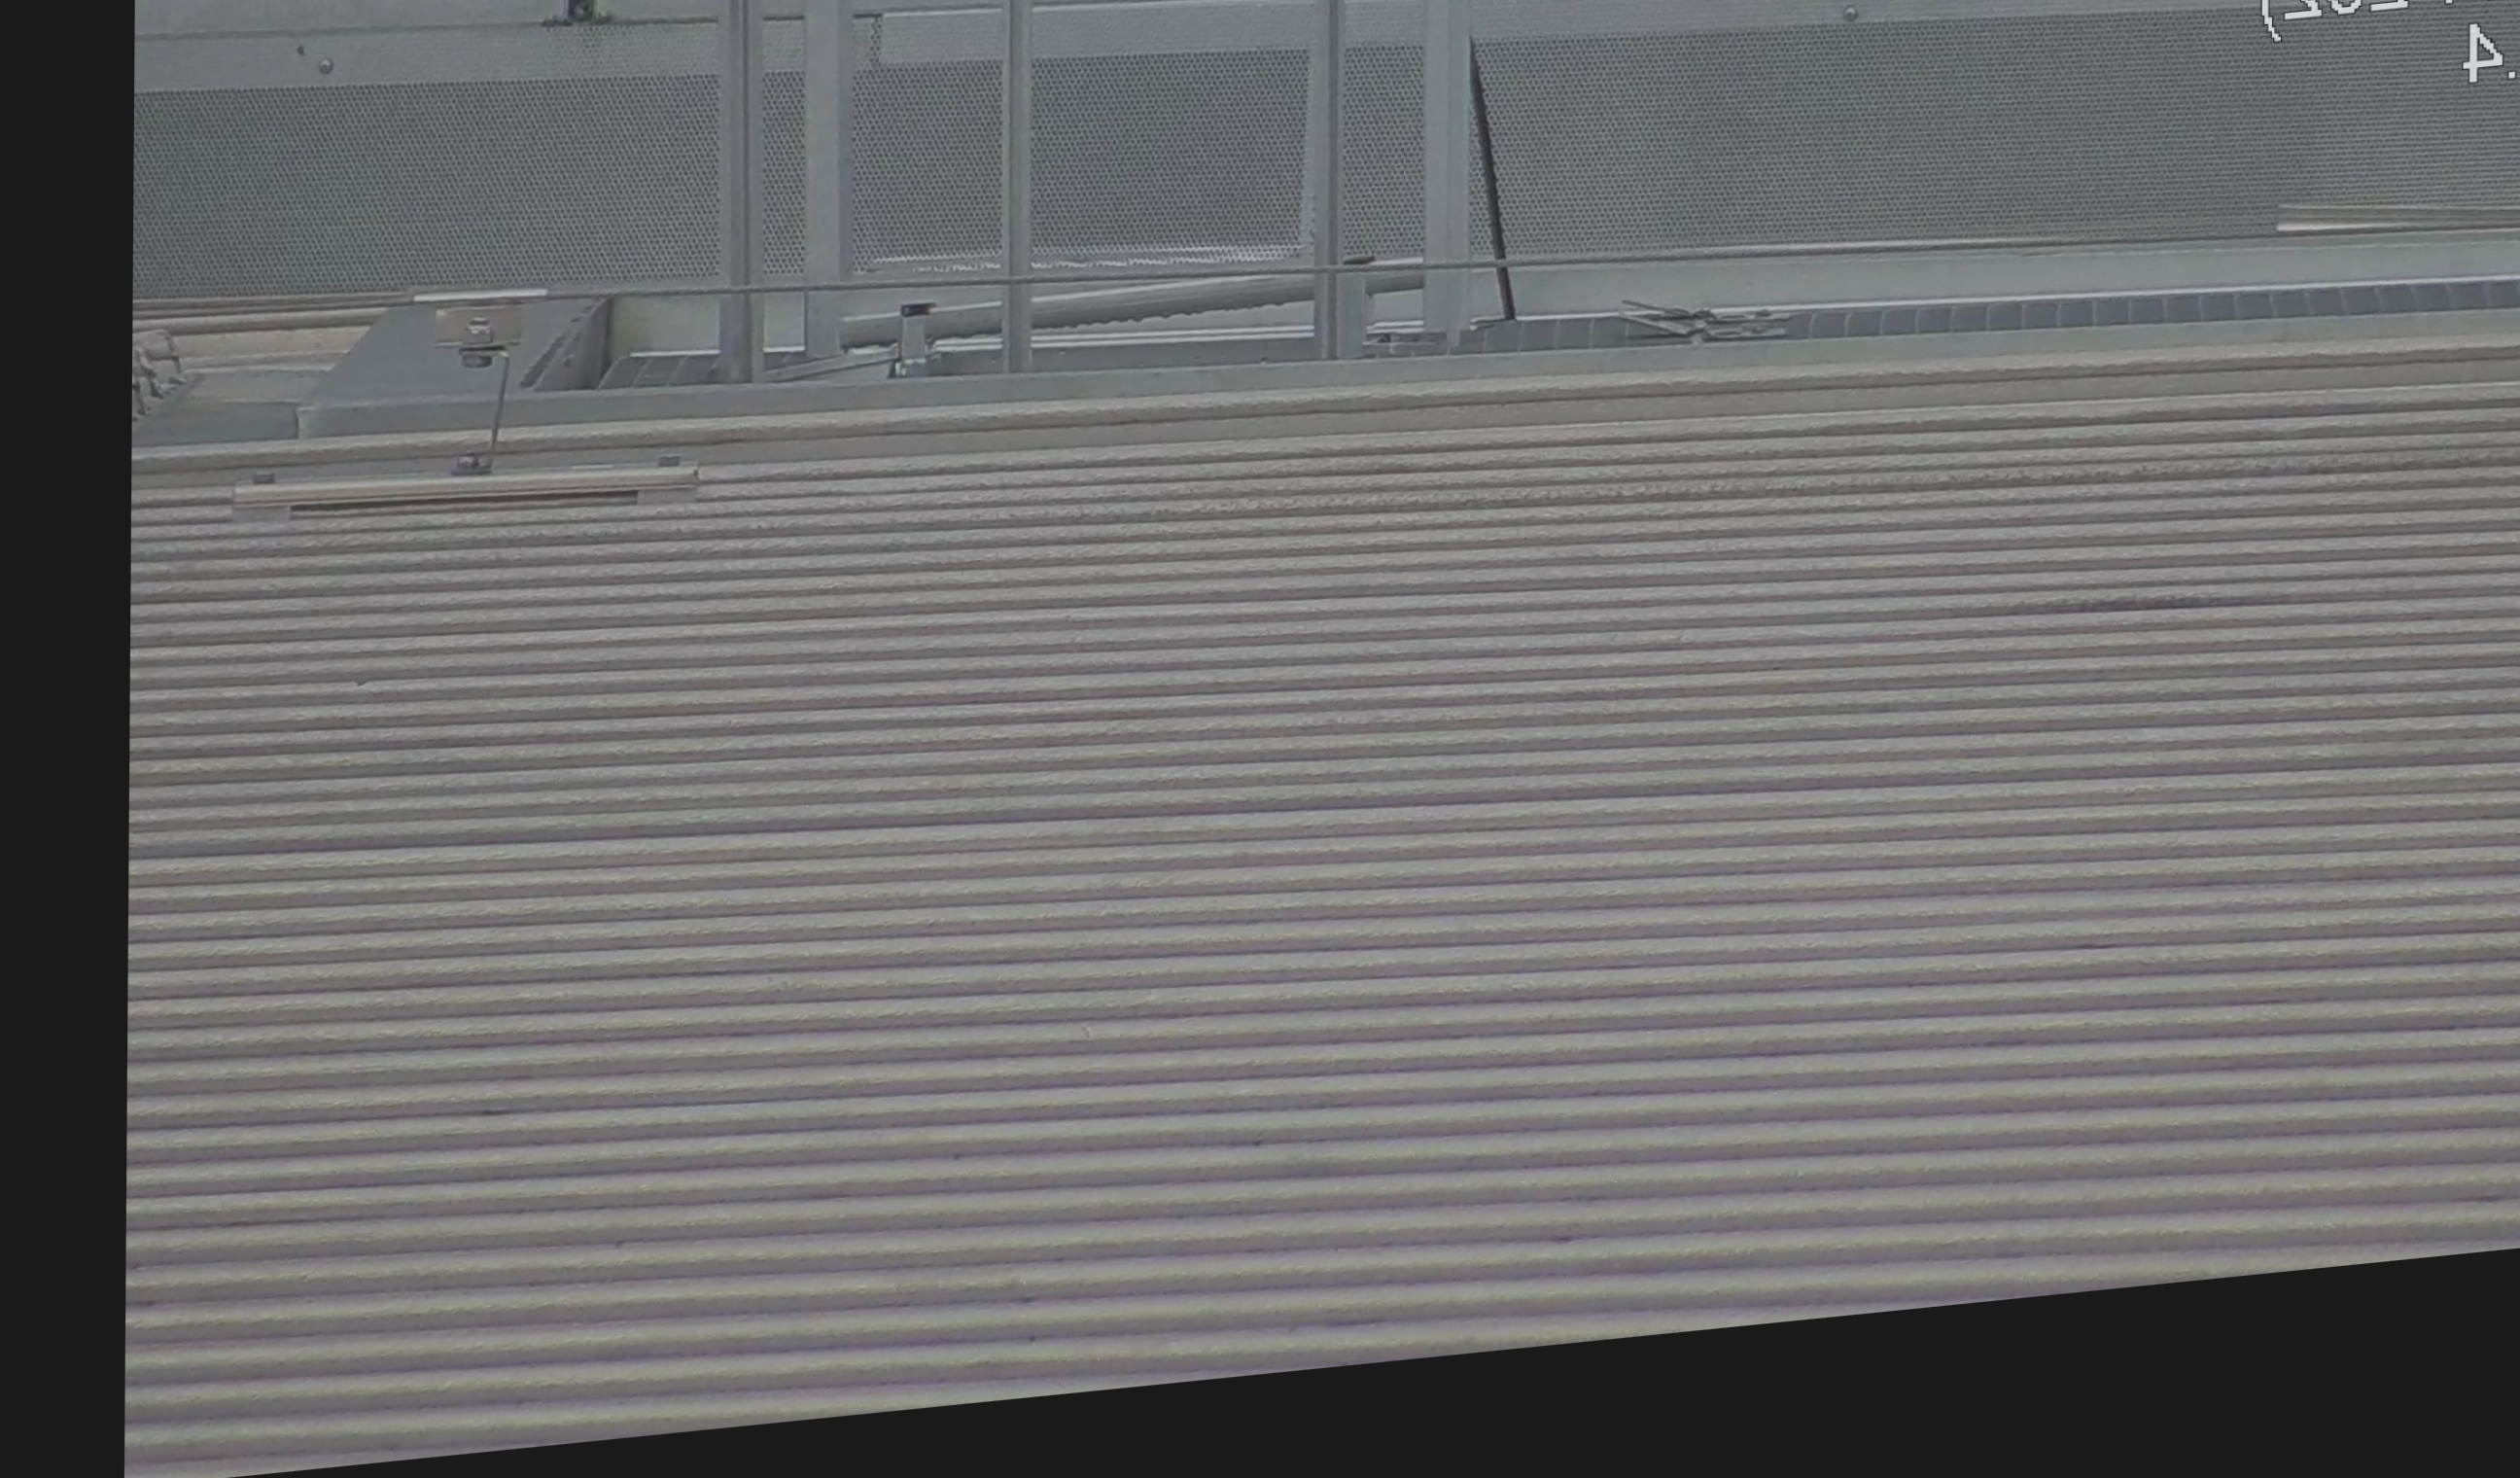Other: (522, 0, 649, 26)
